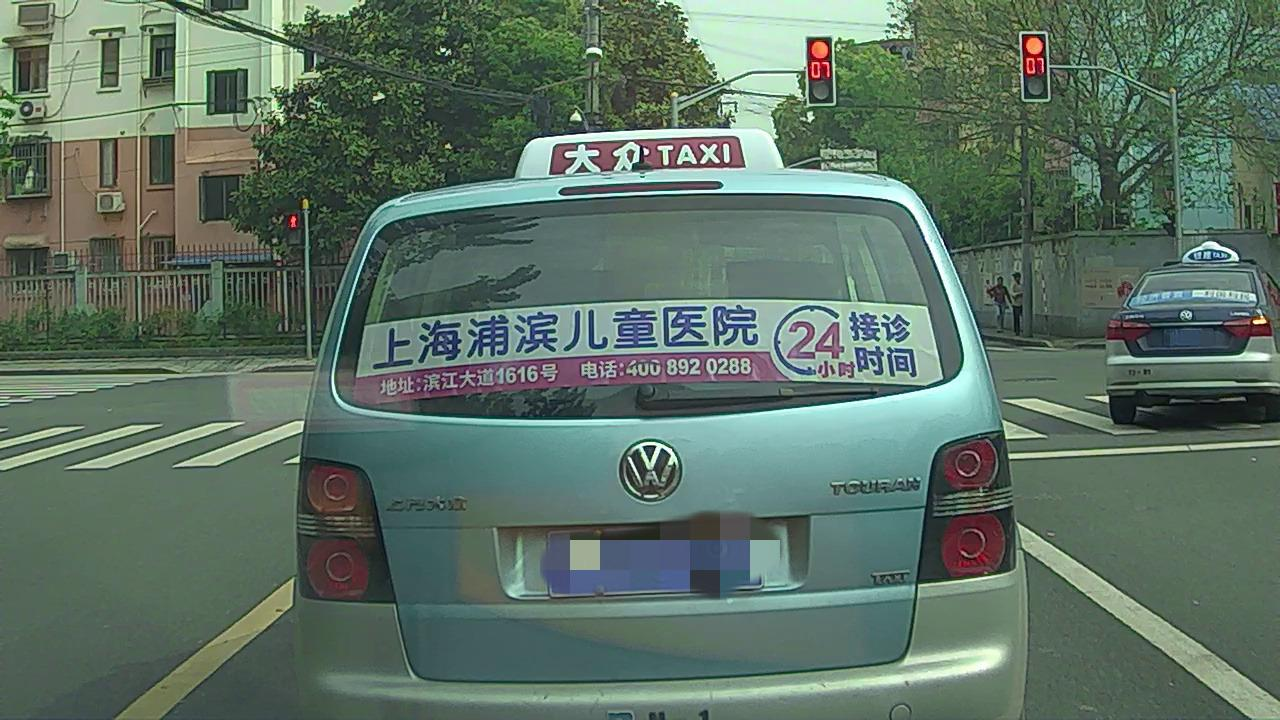traffic_light: (810, 35, 836, 109), (1023, 38, 1048, 97)
